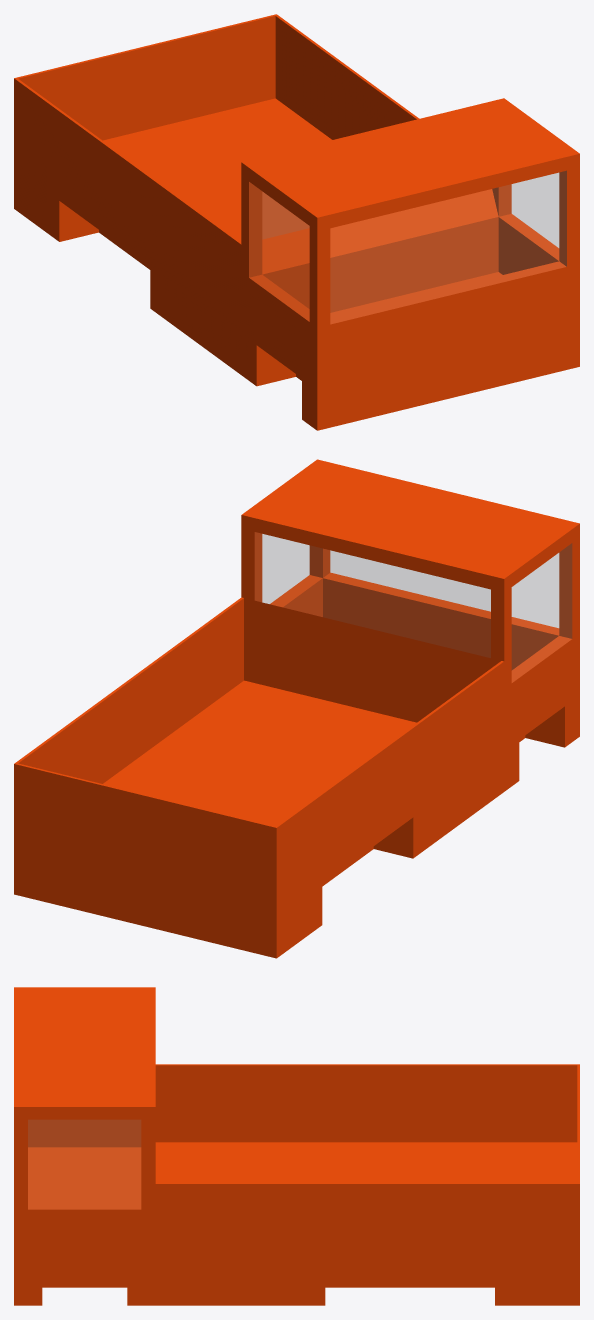
File: Truck.obj
3 views of the same model, one above another, from view 1: azimuth 30°, elevation 25°; view 2: azimuth 150°, elevation 25°; view 3: azimuth 270°, elevation 25° (orthographic). The views are drawn at different scales.
Visible parts, largest first — view 1: TruckBody; view 2: TruckBody; view 3: TruckBody.
Boxes of the visible parts, box(x1,y1,x2,y2) form: TruckBody: box(14, 14, 579, 430); TruckBody: box(14, 459, 579, 958); TruckBody: box(14, 987, 579, 1305).
Size of the model in its own units: 2 by 1.55 by 4.
